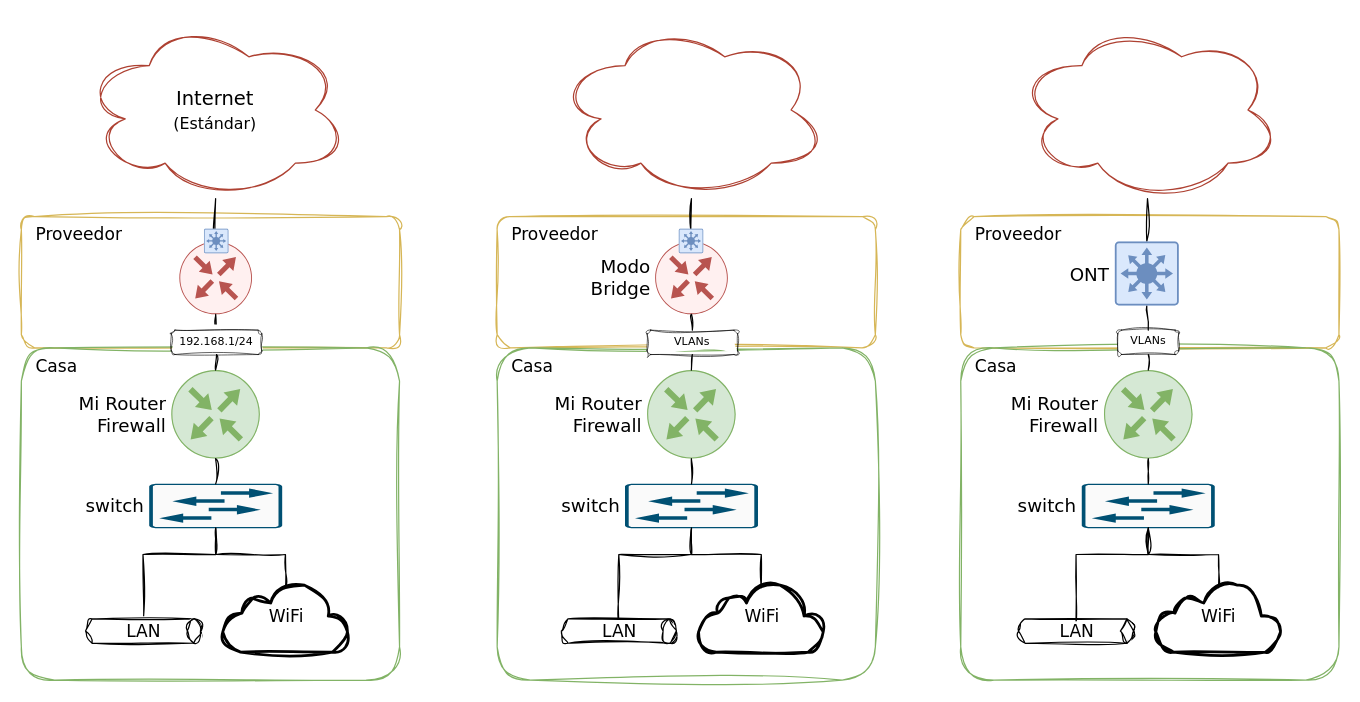
This 1360x702 diagram has some shape labels left out. Here are the shapes that lost their labels. From the top down, the centre of each, then its label:
At (690,109): "Internet (Modo Bridge)".
At (1147,109): "Internet (ONT)".
At (215,277): "Modo Router".
